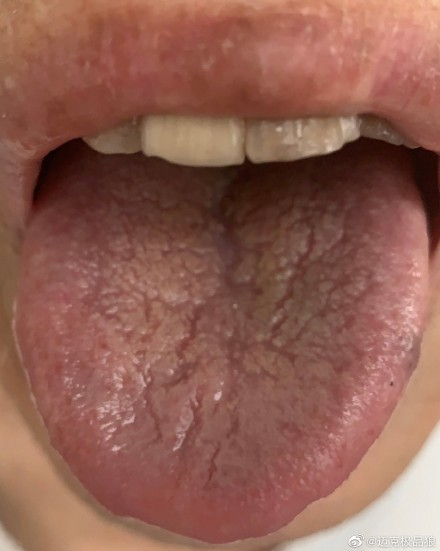liewenshe: (114, 178, 323, 481)
